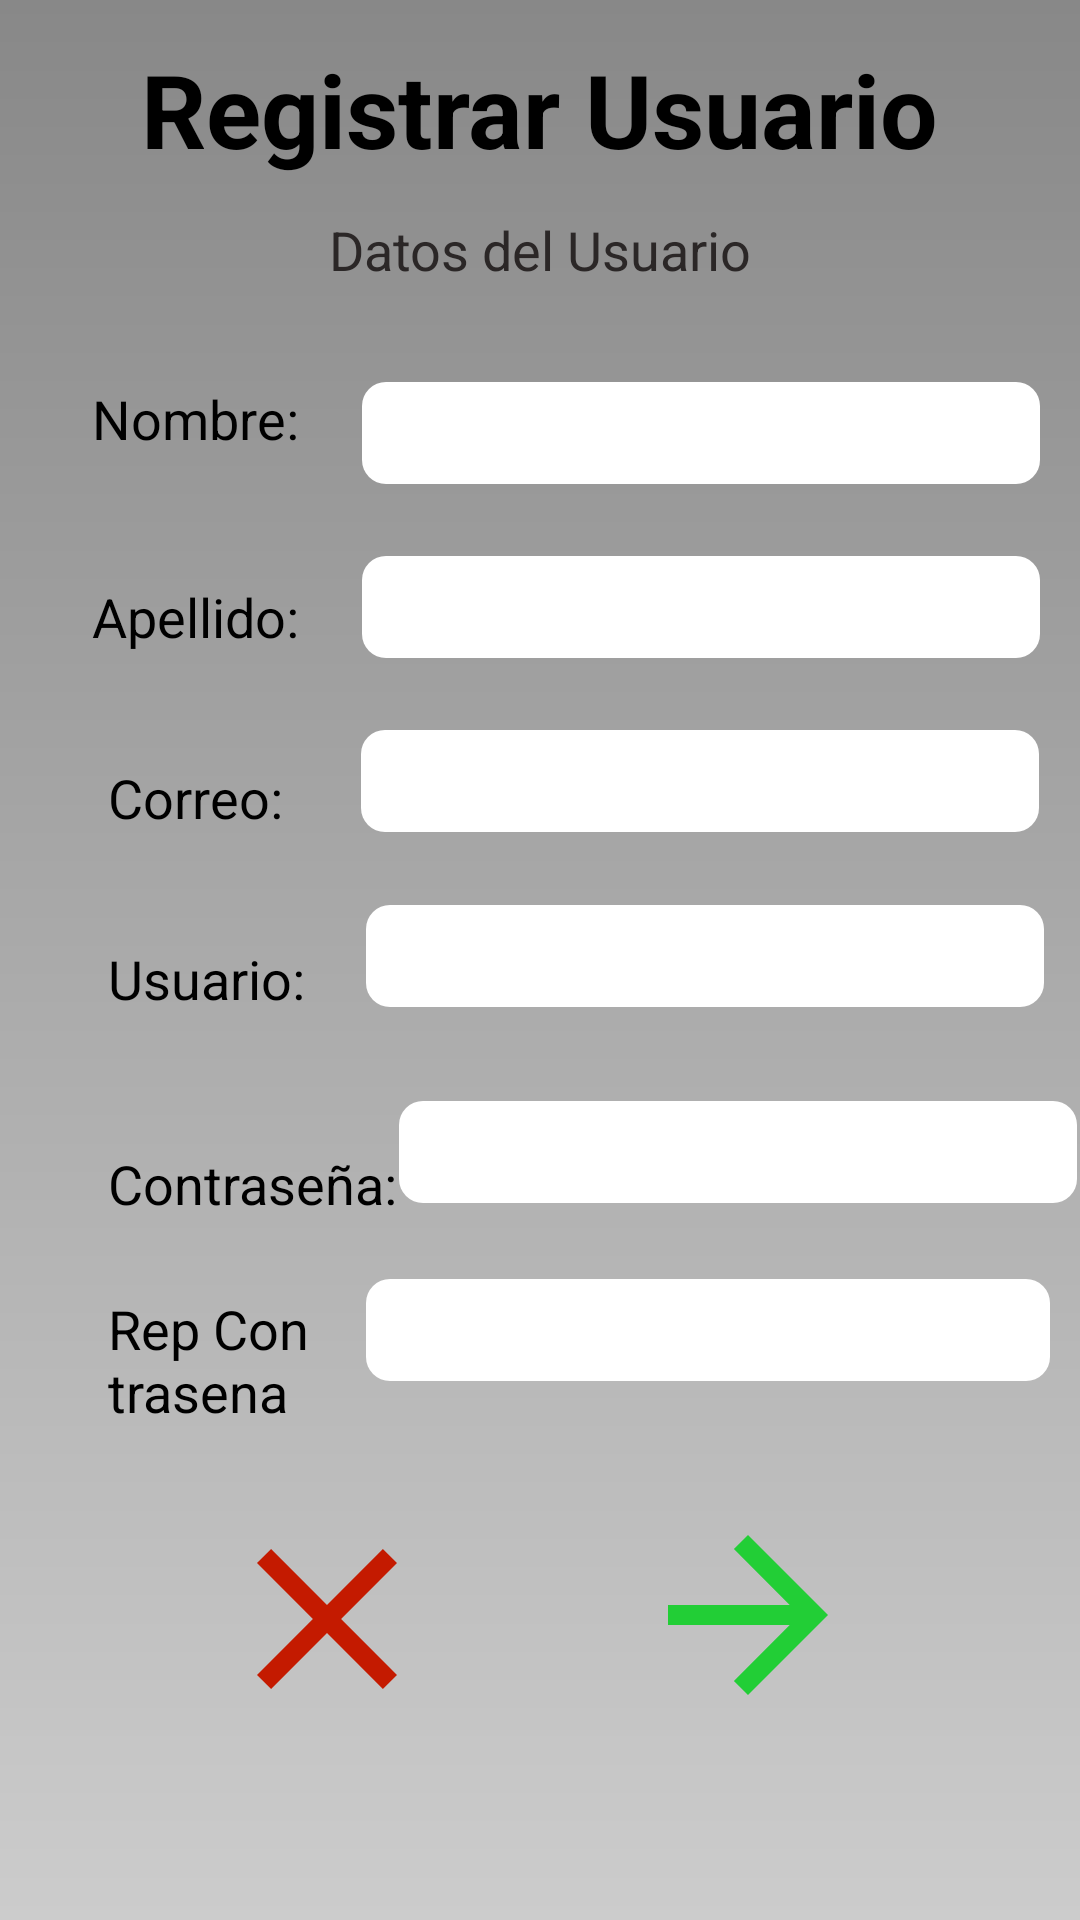

Icon click points for this 1080×1920 phone screenshot, format (x=x, y=y):
arrow forward: (x=748, y=1615)
cancelar: (x=327, y=1619)
